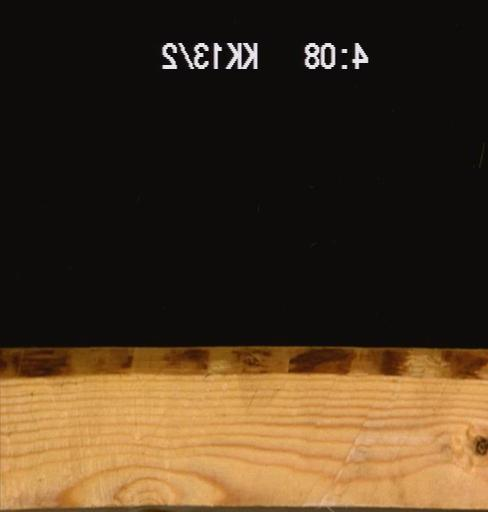dry_knot: (474, 433, 486, 456)
wave: (0, 346, 486, 390)
